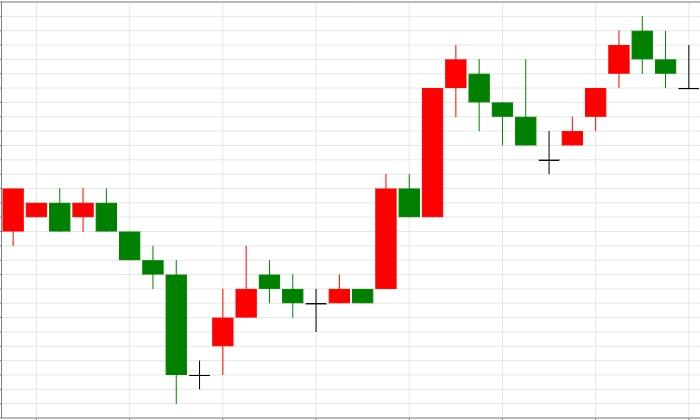morning_star_rise: (96, 189, 234, 404), (445, 45, 583, 175)
